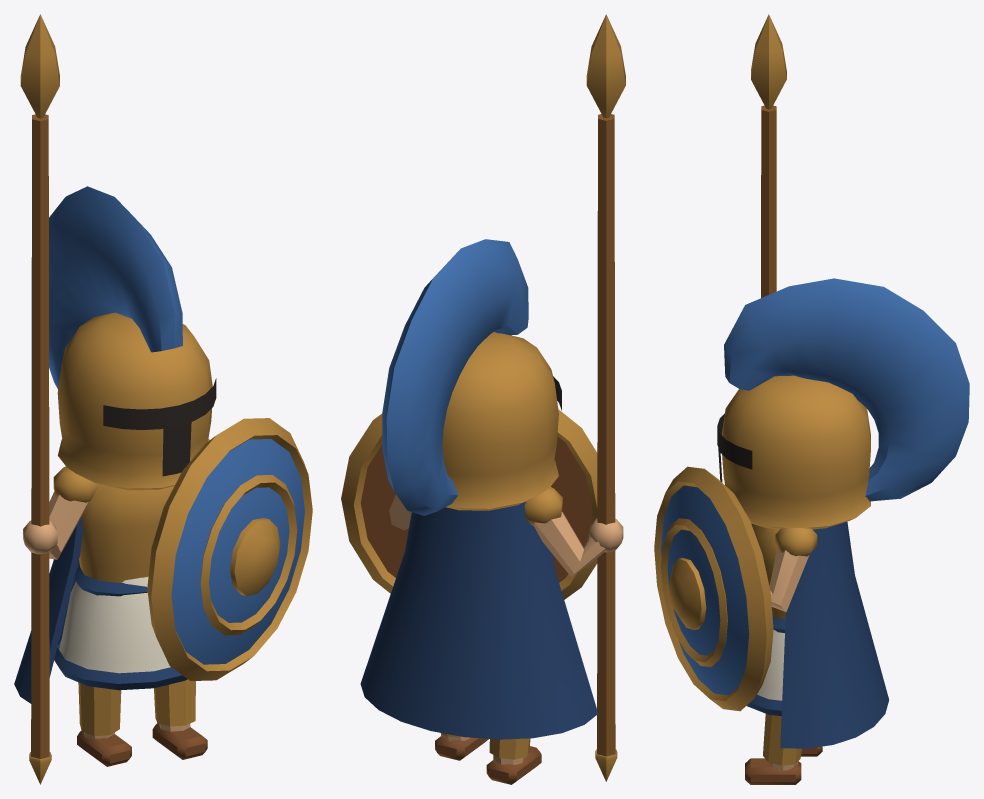
Rendered from hero.glb.
The picture shows the model from 3 angles, left to right: view 1: azimuth 30°, elevation 25°; view 2: azimuth 150°, elevation 25°; view 3: azimuth 270°, elevation 25°; orthographic projection. The views are drawn at different scales.
Visible parts, largest first — view 1: hero; view 2: hero; view 3: hero.
Boxes of the visible parts, x1,y1,x2,y2 form: hero: (14,14,312,784); hero: (341,14,625,784); hero: (654,14,969,784).
Bounding box in the file's own units: 0.5344 × 1.37 × 0.5578.
